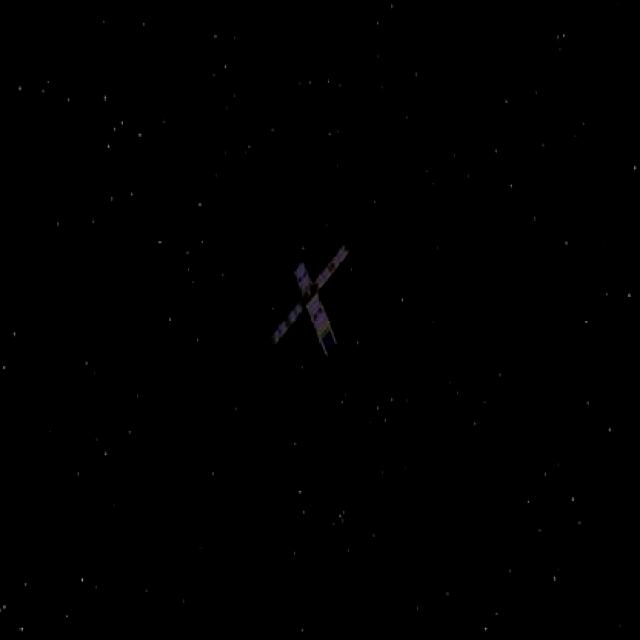satellite: (259, 240, 367, 366)
